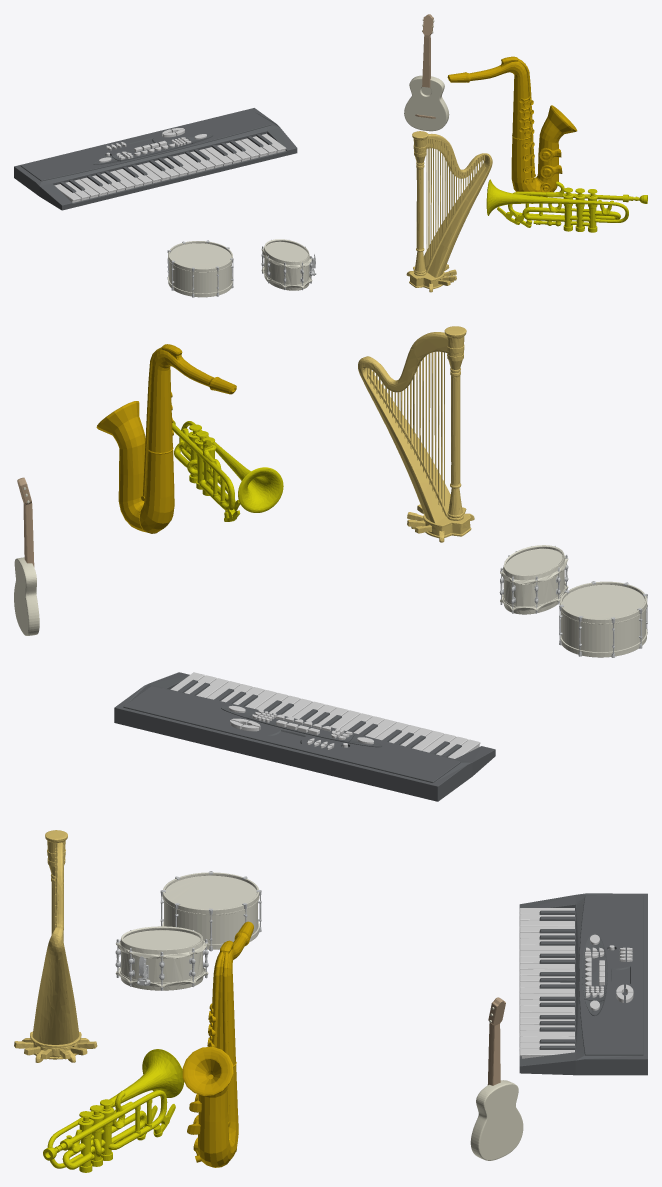
The model's file is Funky Kieran-Duup.glb.
The picture shows the model from 3 angles, top to bottom: view 1: azimuth 30°, elevation 25°; view 2: azimuth 150°, elevation 25°; view 3: azimuth 270°, elevation 25°; orthographic projection. The views are drawn at different scales.
Visible parts, largest first — view 1: Mesh_Mesh_head_geo.001_lambert2SG.001; view 2: Mesh_Mesh_head_geo.001_lambert2SG.001; view 3: Mesh_Mesh_head_geo.001_lambert2SG.001.
Part boxes in pixels (left/top/right/bottom): Mesh_Mesh_head_geo.001_lambert2SG.001: left=14, top=14, right=647, bottom=297; Mesh_Mesh_head_geo.001_lambert2SG.001: left=14, top=326, right=647, bottom=801; Mesh_Mesh_head_geo.001_lambert2SG.001: left=14, top=830, right=647, bottom=1172.
Size of the model in its own units: 0.1839 by 0.062 by 0.1693.
